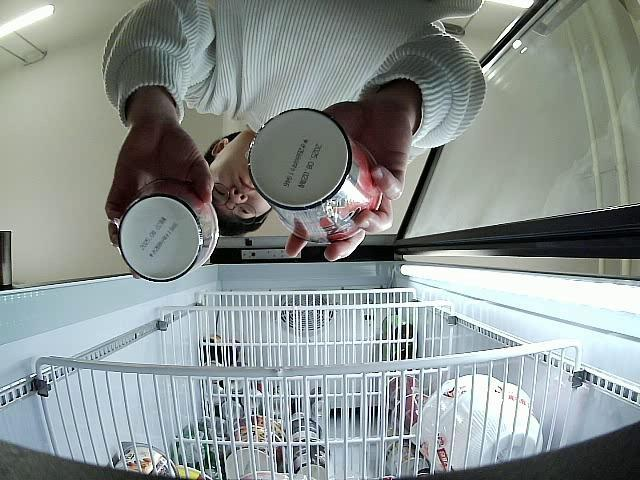02_shinRamen_S: (248, 107, 382, 242), (118, 181, 220, 282)
